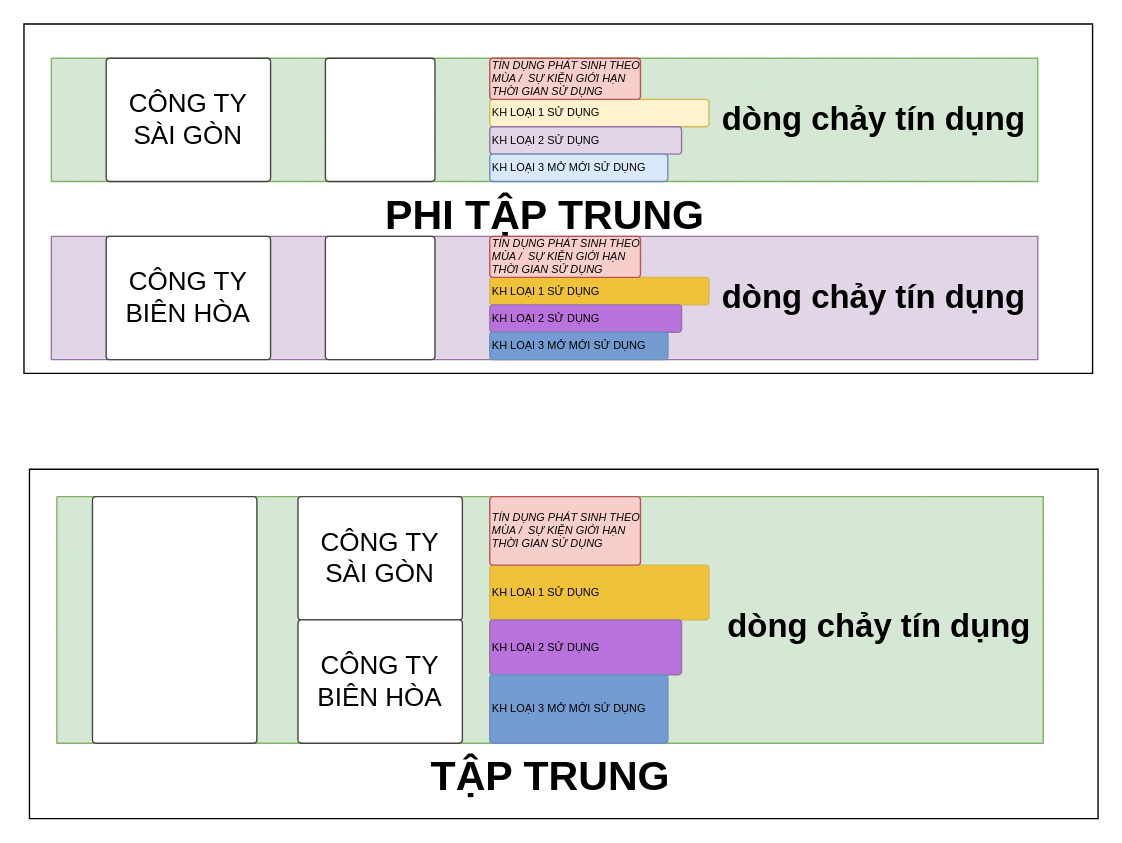
Some shapes in this 1122 by 843 pixel diagram are drawn without their labels. The shapes that lost their labels are listed below. From the top down, each one's centre as x and y in pixels, then its label:
(x=379, y=119): KIỂM SOÁT TÍN DỤNG SÀI GÒN
(x=379, y=297): KIỂM SOÁT TÍN DỤNG BIÊN HÒA
(x=174, y=619): KIỂM SOÁT TÍN DỤNG DOANH NGHIỆP
